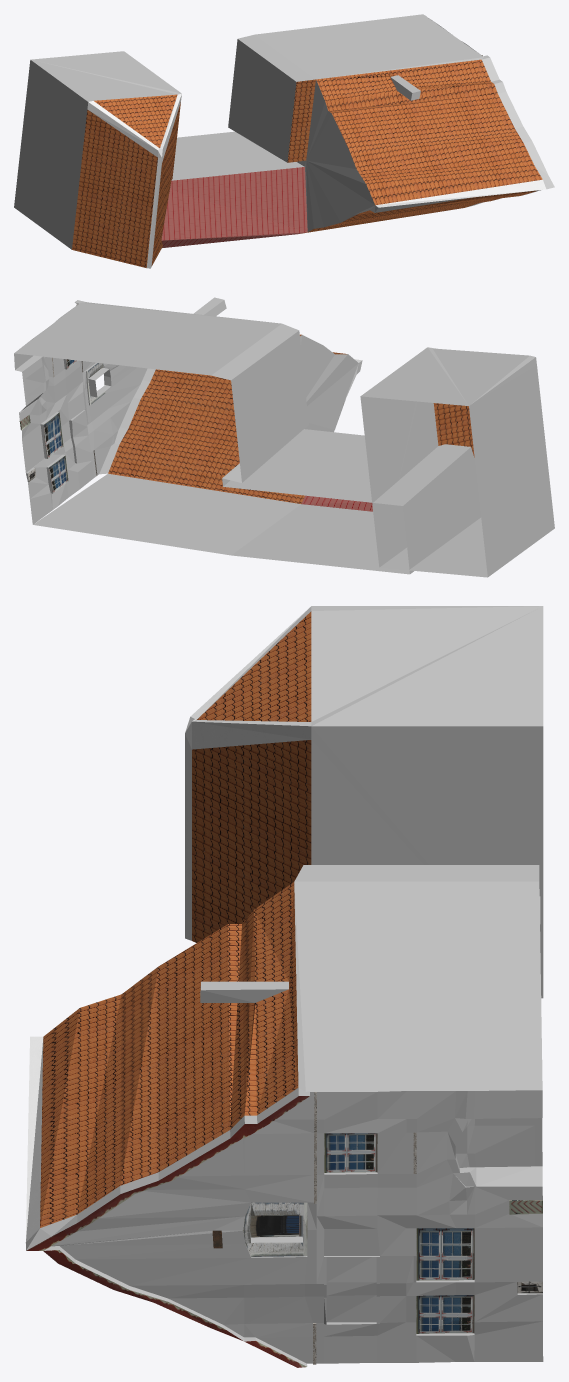
The model's file is Ryytli12-origo.obj.
The picture shows the model from 3 angles, top to bottom: view 1: azimuth 30°, elevation 25°; view 2: azimuth 150°, elevation 25°; view 3: azimuth 270°, elevation 25°; orthographic projection. The views are drawn at different scales.
Parts seen in each view (by area): view 1: Ryytli12; view 2: Ryytli12; view 3: Ryytli12.
Boxes of the visible parts, x1,y1,x2,y2 form: Ryytli12: (14, 14, 554, 268); Ryytli12: (14, 297, 554, 577); Ryytli12: (25, 606, 543, 1367).
Size of the model in its own units: 30.81 by 13.5 by 16.29.
